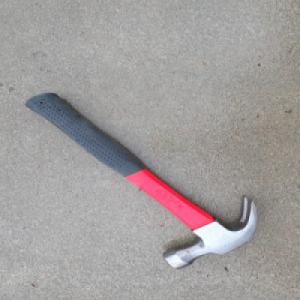Hammer: (23, 92, 259, 273)
